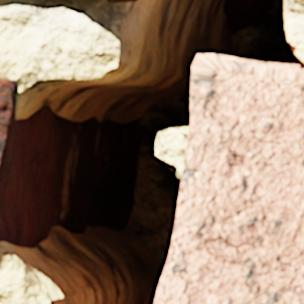brick: (154, 55, 303, 303), (0, 77, 16, 210)
broken_brick: (101, 0, 137, 3)
crack: (0, 0, 303, 303)
